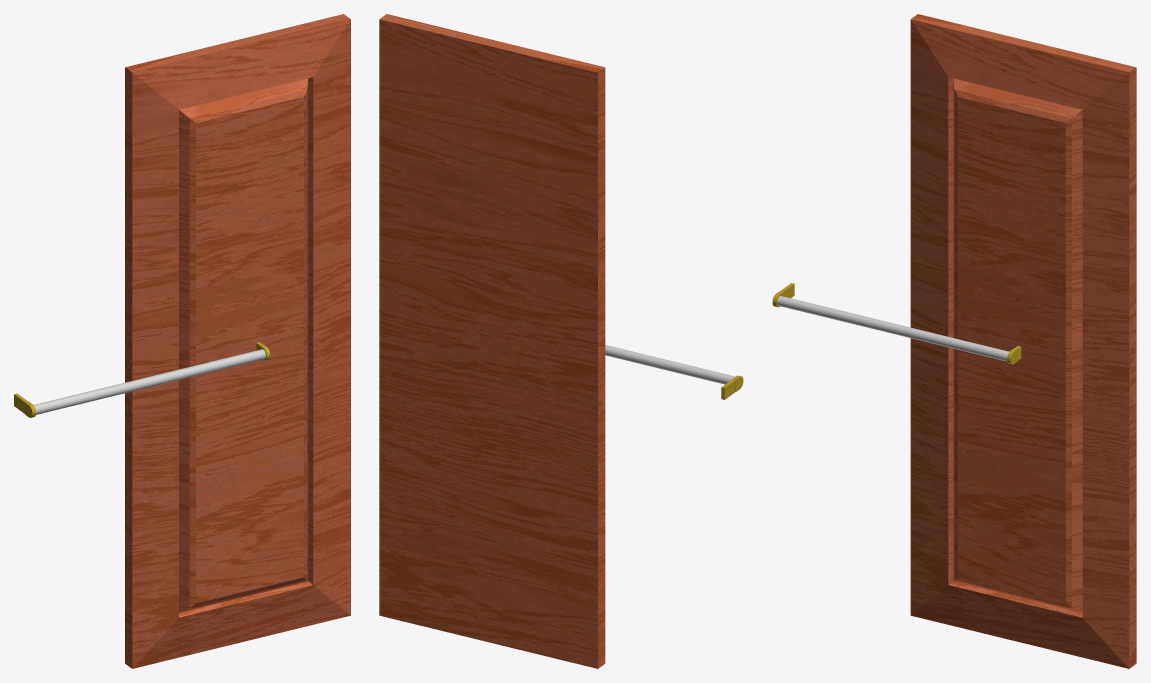
The model's file is Cabinet_898696f7.obj.
3 renders of one model, left to right at view 1: azimuth 30°, elevation 25°; view 2: azimuth 150°, elevation 25°; view 3: azimuth 330°, elevation 25°, orthographic.
Parts seen in each view (by area): view 1: Mesh_01_62c7c21a, handle_2_305mm_01_8395b59c; view 2: Mesh_01_62c7c21a, handle_2_305mm_01_8395b59c; view 3: Mesh_01_62c7c21a, handle_2_305mm_01_8395b59c.
Boxes of the visible parts, x1,y1,x2,y2 form: Mesh_01_62c7c21a: (125,14,350,668); handle_2_305mm_01_8395b59c: (14,342,270,417); Mesh_01_62c7c21a: (379,14,605,668); handle_2_305mm_01_8395b59c: (605,345,743,399); Mesh_01_62c7c21a: (910,14,1136,668); handle_2_305mm_01_8395b59c: (772,283,1021,364).
Size of the model in its own units: 0.4325 by 0.73 by 0.0585.
